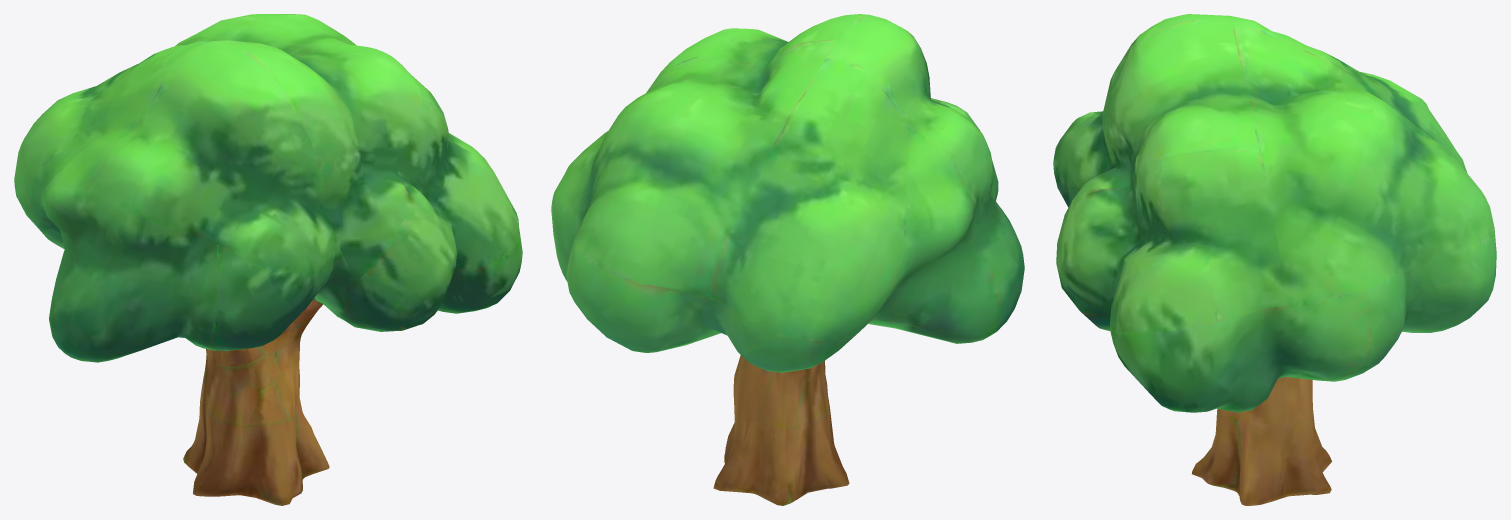
Rendered from oak.glb.
The picture shows the model from 3 angles, left to right: view 1: azimuth 30°, elevation 25°; view 2: azimuth 150°, elevation 25°; view 3: azimuth 270°, elevation 25°; orthographic projection. The views are drawn at different scales.
Size of the model in its own units: 1.89 by 1.9 by 1.75.
Materials: 1 (1 with a texture image).
